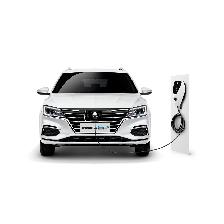EV: (37, 68, 154, 159)
